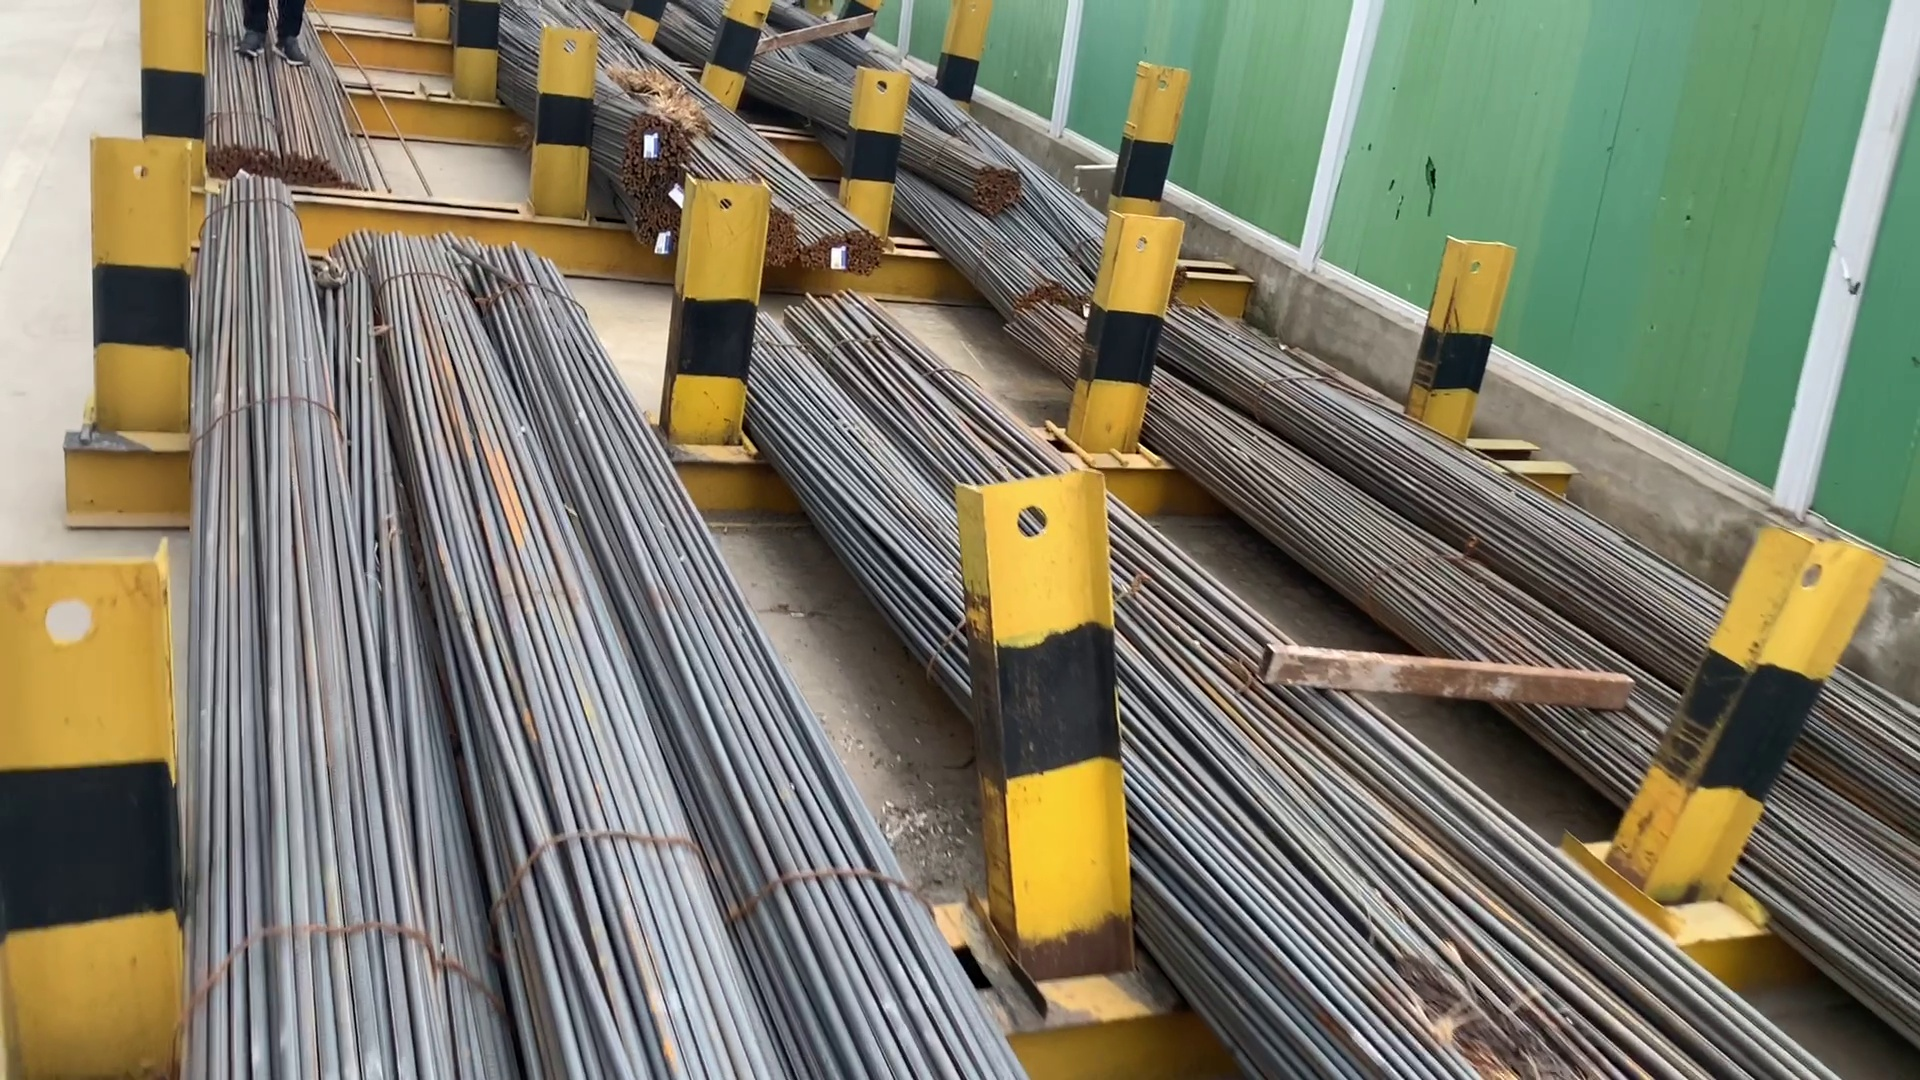rebar: (620, 111, 688, 245), (796, 223, 891, 276), (204, 127, 280, 177), (284, 148, 364, 191), (972, 160, 1023, 211), (762, 203, 800, 265)
